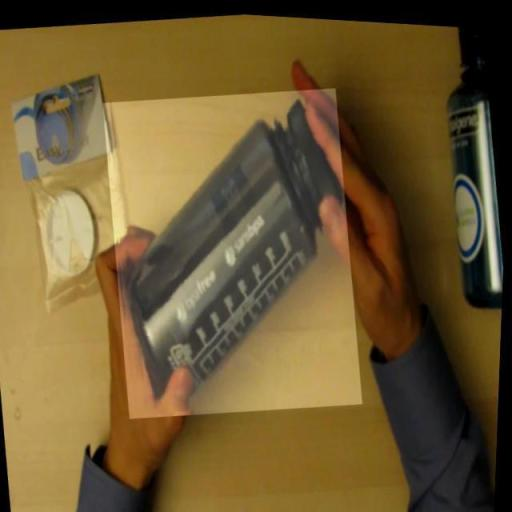bottle: (94, 72, 374, 428)
